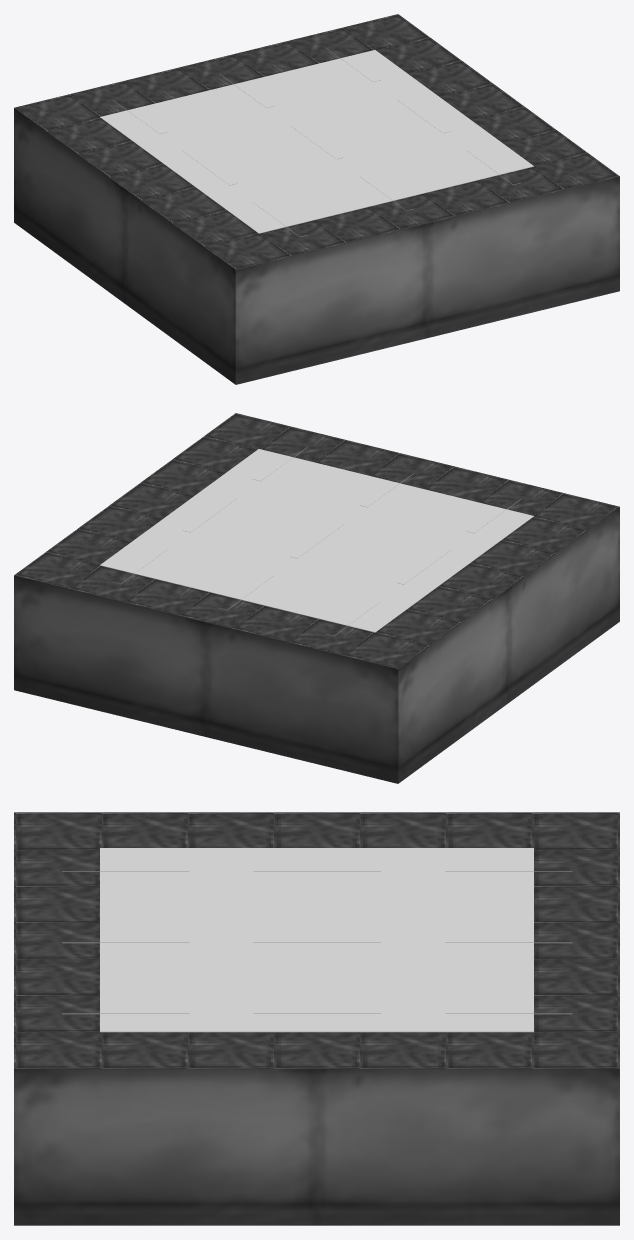
File: room.glb
The picture shows the model from 3 angles, top to bottom: view 1: azimuth 30°, elevation 25°; view 2: azimuth 150°, elevation 25°; view 3: azimuth 270°, elevation 25°; orthographic projection. The views are drawn at different scales.
Parts seen in each view (by area): view 1: wall_back, Cube, ceiling_main, wall_left; view 2: wall_front, Cube, ceiling_main, wall_left; view 3: wall_right, Cube, ceiling_main.
Boxes of the visible parts, box(x1,y1,x2,y2) form: wall_back: box(235, 176, 619, 384); Cube: box(100, 50, 533, 233); ceiling_main: box(14, 14, 619, 269); wall_left: box(14, 108, 235, 384); wall_front: box(14, 575, 398, 783); Cube: box(100, 449, 533, 632); ceiling_main: box(14, 413, 619, 668); wall_left: box(398, 507, 619, 783); wall_right: box(14, 1068, 619, 1225); Cube: box(100, 848, 533, 1032); ceiling_main: box(14, 812, 619, 1068).
Size of the model in its own units: 14 by 4.03 by 14.
Materials: 3 (3 with a texture image).
